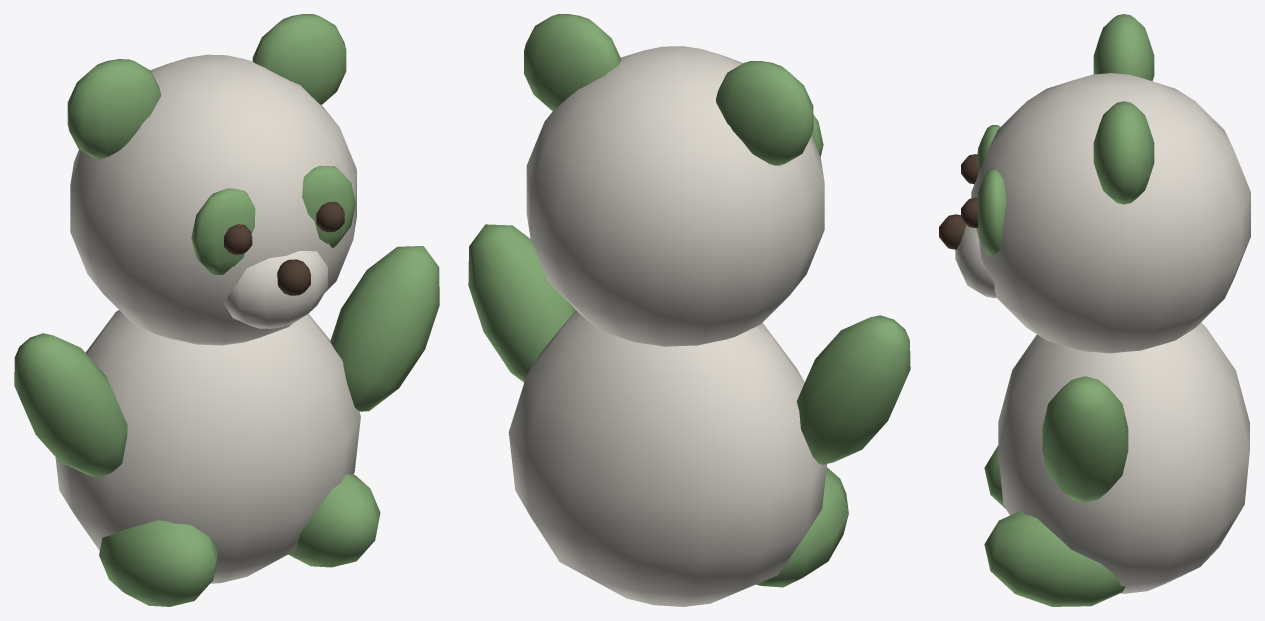
The model's file is plush_panda.glb.
3 renders of one model, left to right at view 1: azimuth 30°, elevation 25°; view 2: azimuth 150°, elevation 25°; view 3: azimuth 270°, elevation 25°, orthographic. The views are drawn at different scales.
Visible parts, largest first — view 1: plush_panda_mesh; view 2: plush_panda_mesh; view 3: plush_panda_mesh.
Part boxes in pixels (x1=…): plush_panda_mesh: x1=14, y1=14, x2=439, y2=606; plush_panda_mesh: x1=468, y1=14, x2=910, y2=606; plush_panda_mesh: x1=939, y1=14, x2=1250, y2=606.
Size of the model in its own units: 0.3609 by 0.44 by 0.2416.
